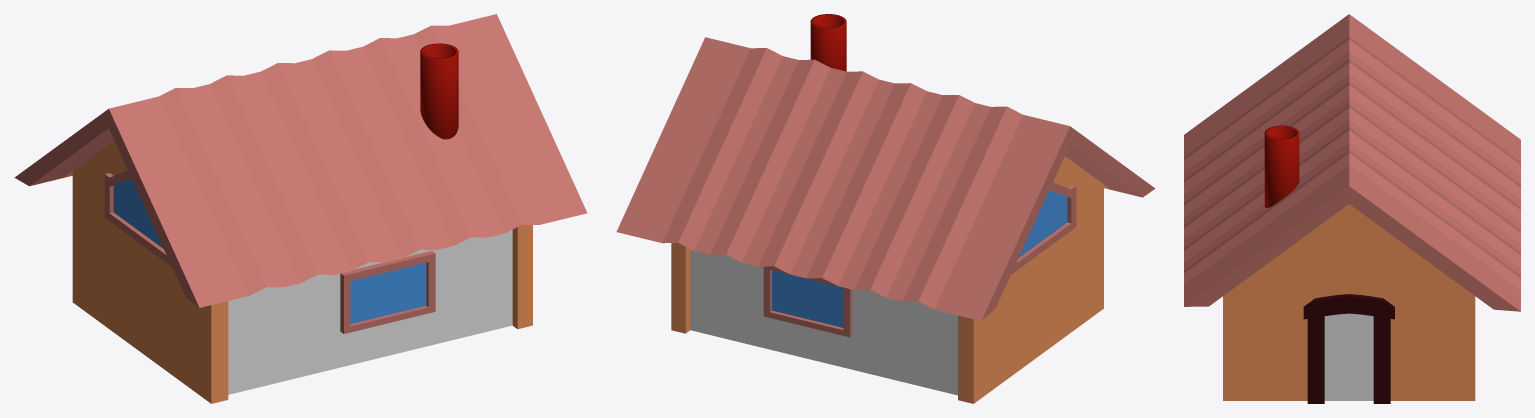
File: house1.fbx
3 renders of one model, left to right at view 1: azimuth 30°, elevation 25°; view 2: azimuth 150°, elevation 25°; view 3: azimuth 270°, elevation 25°, orthographic. The views are drawn at different scales.
Visible parts, largest first — view 1: Cube.004, Cube.012, Cylinder.007, Cube.014; view 2: Cube.004, Cube.013, Cube.014, Cylinder.007; view 3: Cube.004, Cylinder.007, Cube.011, Cube.006, Cube.007.
Part boxes in pixels (<box>): Cube.004: <box>14,14,587,403</box>; Cube.012: <box>340,251,435,333</box>; Cylinder.007: <box>420,43,458,139</box>; Cube.014: <box>104,170,171,266</box>; Cube.004: <box>616,37,1155,403</box>; Cube.013: <box>763,266,852,337</box>; Cube.014: <box>1012,182,1076,273</box>; Cylinder.007: <box>810,14,846,71</box>; Cube.004: <box>1184,14,1520,400</box>; Cylinder.007: <box>1264,125,1299,207</box>; Cube.011: <box>1303,294,1394,319</box>; Cube.006: <box>1307,316,1324,403</box>; Cube.007: <box>1373,316,1390,403</box>.
Bounding box in the file's own units: 6278 × 4115 × 5191.
